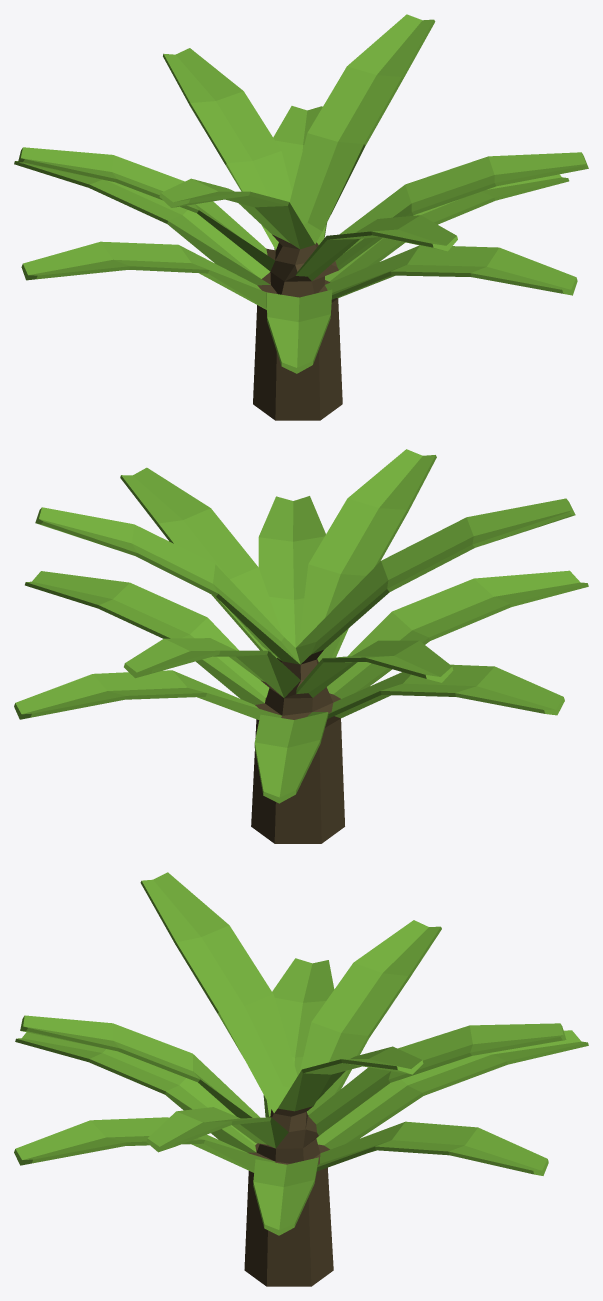
Rendered from SaguPalmShort.fbx.
3 renders of one model, top to bottom at view 1: azimuth 30°, elevation 25°; view 2: azimuth 150°, elevation 25°; view 3: azimuth 270°, elevation 25°, orthographic. The views are drawn at different scales.
Parts seen in each view (by area): view 1: SaguPalmShort; view 2: SaguPalmShort; view 3: SaguPalmShort.
Part boxes in pixels (x1=…): SaguPalmShort: x1=14, y1=14, x2=588, y2=420; SaguPalmShort: x1=14, y1=449, x2=588, y2=843; SaguPalmShort: x1=14, y1=872, x2=588, y2=1286.
Size of the model in its own units: 176 by 98.08 by 169.
